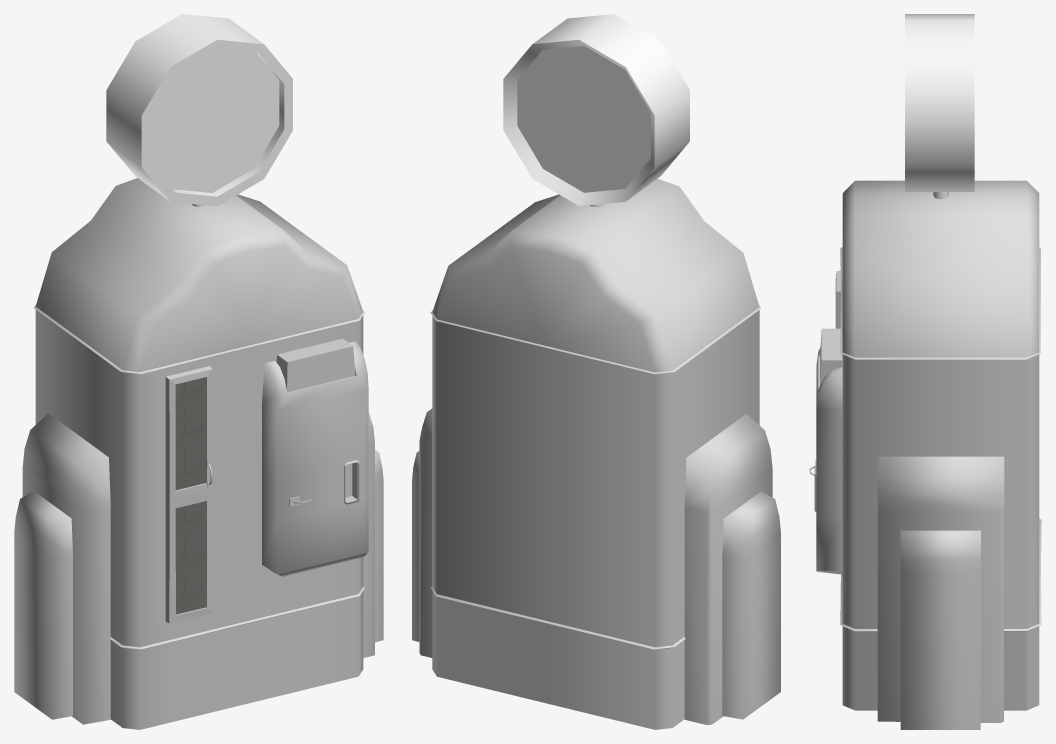
Rendered from zombie_vending_three_gun_on_lod1.glb.
3 renders of one model, left to right at view 1: azimuth 30°, elevation 25°; view 2: azimuth 150°, elevation 25°; view 3: azimuth 270°, elevation 25°, orthographic.
Parts seen in each view (by area): view 1: zombie_vending_three_gun_on_lod1; view 2: zombie_vending_three_gun_on_lod1; view 3: zombie_vending_three_gun_on_lod1.
Part boxes in pixels (x1,y1,x2,y2): zombie_vending_three_gun_on_lod1: [14, 14, 383, 729]; zombie_vending_three_gun_on_lod1: [412, 14, 780, 729]; zombie_vending_three_gun_on_lod1: [809, 14, 1041, 729].
Bounding box in the file's own units: 60.26 × 112 × 37.21.
Materials: 4 (1 with a texture image).
